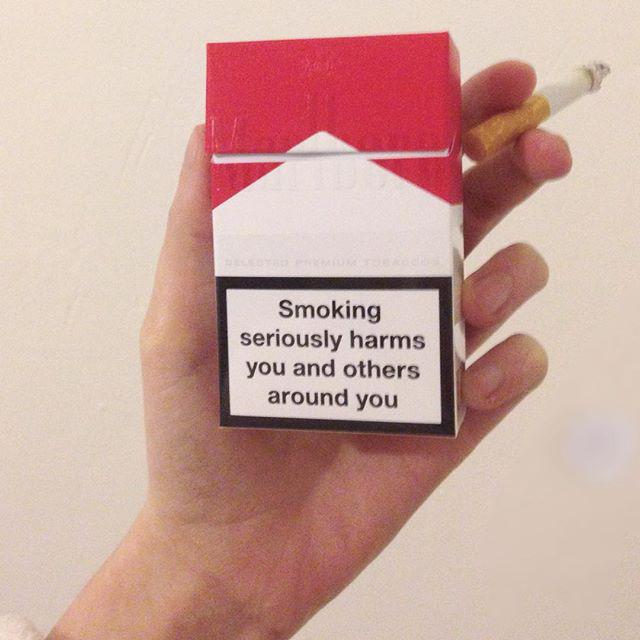marlboro_red: (215, 43, 454, 429)
